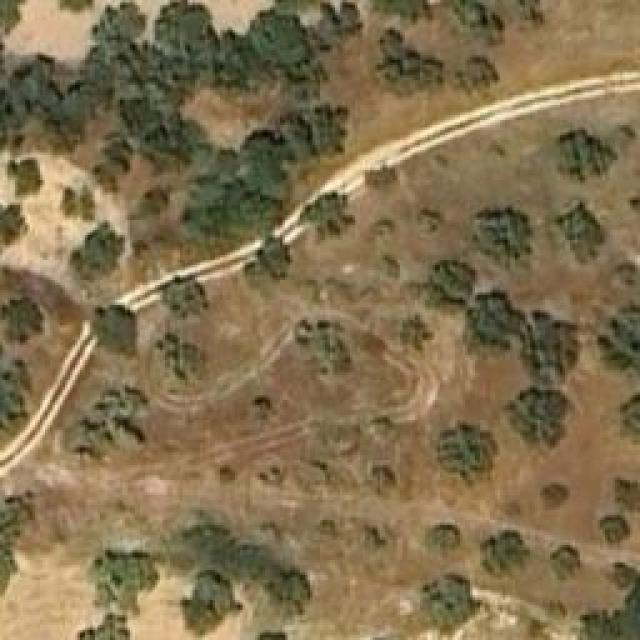Tree: (580, 562, 640, 640), (470, 205, 538, 270), (497, 388, 565, 451), (75, 392, 143, 450), (520, 315, 578, 383), (430, 422, 498, 480), (180, 568, 240, 633), (373, 35, 438, 93), (95, 547, 150, 615), (422, 575, 480, 635), (183, 175, 236, 240), (555, 203, 610, 263), (70, 223, 125, 283), (463, 300, 518, 360), (558, 128, 618, 183), (250, 10, 308, 65), (597, 307, 640, 380), (243, 132, 288, 200), (155, 333, 208, 386), (423, 258, 476, 311), (300, 320, 350, 375), (300, 193, 355, 238), (158, 275, 211, 320), (142, 118, 188, 167), (98, 3, 143, 53), (93, 305, 136, 355), (160, 3, 208, 46), (480, 533, 525, 578), (268, 568, 313, 613), (132, 180, 178, 222), (310, 105, 348, 155), (0, 190, 25, 253), (455, 55, 493, 95), (2, 300, 40, 340), (548, 545, 583, 583), (8, 160, 43, 195), (82, 615, 130, 640), (367, 0, 425, 20), (63, 185, 96, 220), (400, 315, 433, 350), (260, 243, 293, 276), (612, 477, 640, 515), (600, 510, 630, 545), (365, 168, 398, 198), (415, 205, 447, 235), (430, 523, 458, 556), (358, 522, 391, 550), (620, 393, 640, 438), (373, 258, 403, 288), (542, 483, 570, 508), (0, 0, 28, 25), (370, 468, 395, 493), (250, 393, 273, 419)
